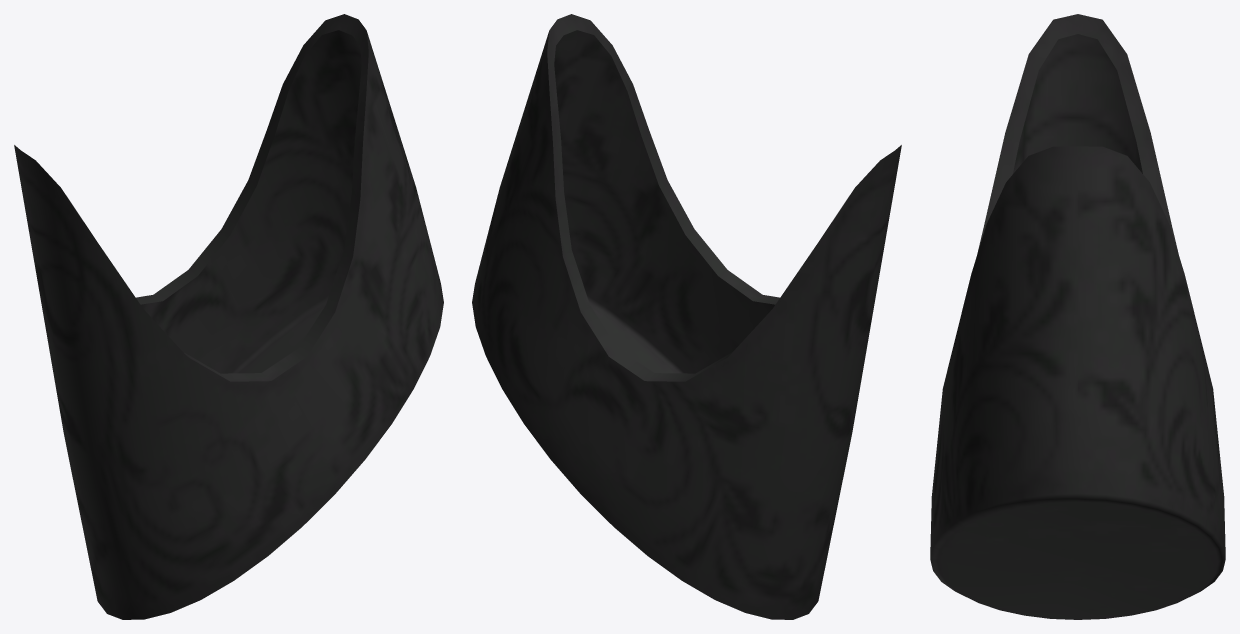
Rendered from wm_rivendell_sword_a01_black_pommel.fbx.
The picture shows the model from 3 angles, left to right: view 1: azimuth 30°, elevation 25°; view 2: azimuth 150°, elevation 25°; view 3: azimuth 270°, elevation 25°; orthographic projection. The views are drawn at different scales.
Parts seen in each view (by area): view 1: wm_rivendell_sword_a01_black_pommel; view 2: wm_rivendell_sword_a01_black_pommel; view 3: wm_rivendell_sword_a01_black_pommel.
Part boxes in pixels (x1=…): wm_rivendell_sword_a01_black_pommel: x1=14, y1=14, x2=443, y2=619; wm_rivendell_sword_a01_black_pommel: x1=472, y1=14, x2=901, y2=619; wm_rivendell_sword_a01_black_pommel: x1=930, y1=14, x2=1225, y2=619.
Bounding box in the file's own units: 0.0526 × 0.0288 × 0.0654.
1 material, 1 textured.
